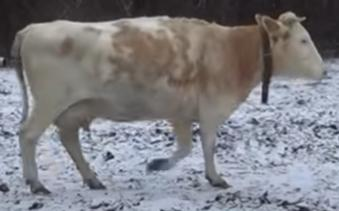cow: (12, 12, 328, 194)
